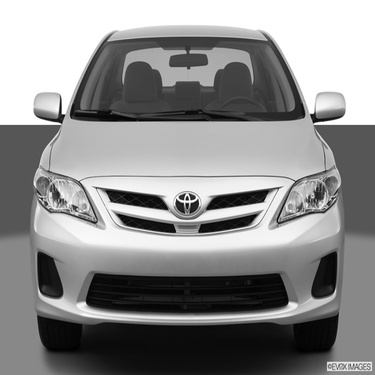car: (3, 16, 347, 351)
